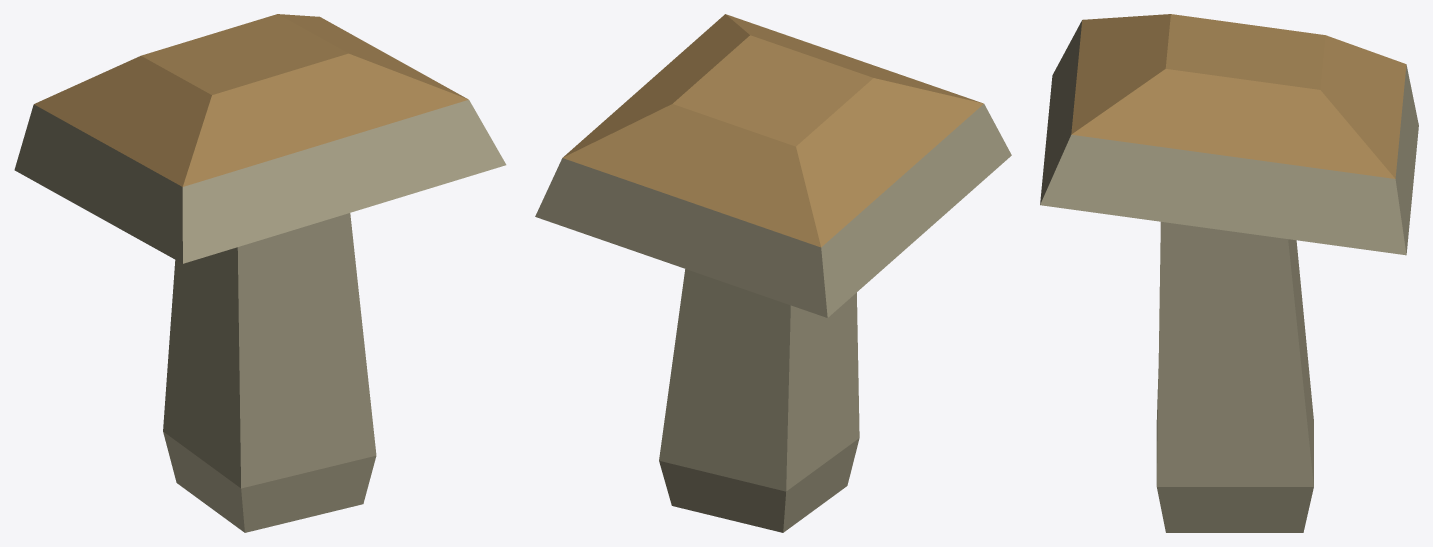
Rendered from mushroom02.fbx.
The picture shows the model from 3 angles, left to right: view 1: azimuth 30°, elevation 25°; view 2: azimuth 150°, elevation 25°; view 3: azimuth 270°, elevation 25°; orthographic projection. The views are drawn at different scales.
Visible parts, largest first — view 1: mushroom02; view 2: mushroom02; view 3: mushroom02.
Boxes of the visible parts, x1,y1,x2,y2 form: mushroom02: [14, 14, 506, 532]; mushroom02: [535, 14, 1011, 532]; mushroom02: [1040, 14, 1418, 532].
Bounding box in the file's own units: 6.95 × 9.1 × 6.84.
1 material, 1 textured.
